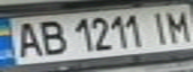1: (69, 15, 93, 53), (121, 11, 145, 47), (109, 12, 130, 50)
2: (90, 14, 112, 52)
A: (9, 19, 45, 58)
B: (33, 17, 69, 56)
I: (145, 8, 172, 45)
M: (160, 7, 193, 43)
